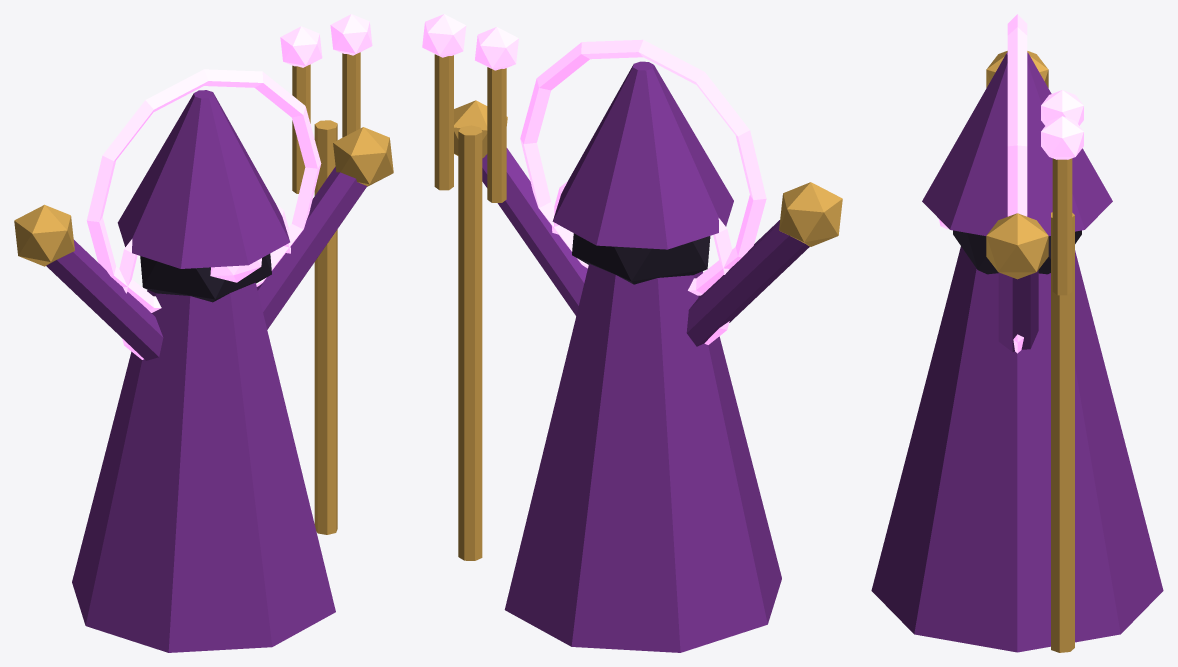
Rendered from enemy_chanting_acolyte.glb.
3 views of the same model, side by side, from view 1: azimuth 30°, elevation 25°; view 2: azimuth 150°, elevation 25°; view 3: azimuth 270°, elevation 25° (orthographic). The views are drawn at different scales.
Parts seen in each view (by area): view 1: enemy_chanting_acolyte; view 2: enemy_chanting_acolyte; view 3: enemy_chanting_acolyte.
Boxes of the visible parts, left/top/right/bottom form: enemy_chanting_acolyte: left=14, top=14, right=393, bottom=652; enemy_chanting_acolyte: left=422, top=14, right=842, bottom=652; enemy_chanting_acolyte: left=871, top=14, right=1163, bottom=652.
Bounding box in the file's own units: 1.64 × 2.21 × 1.04.
